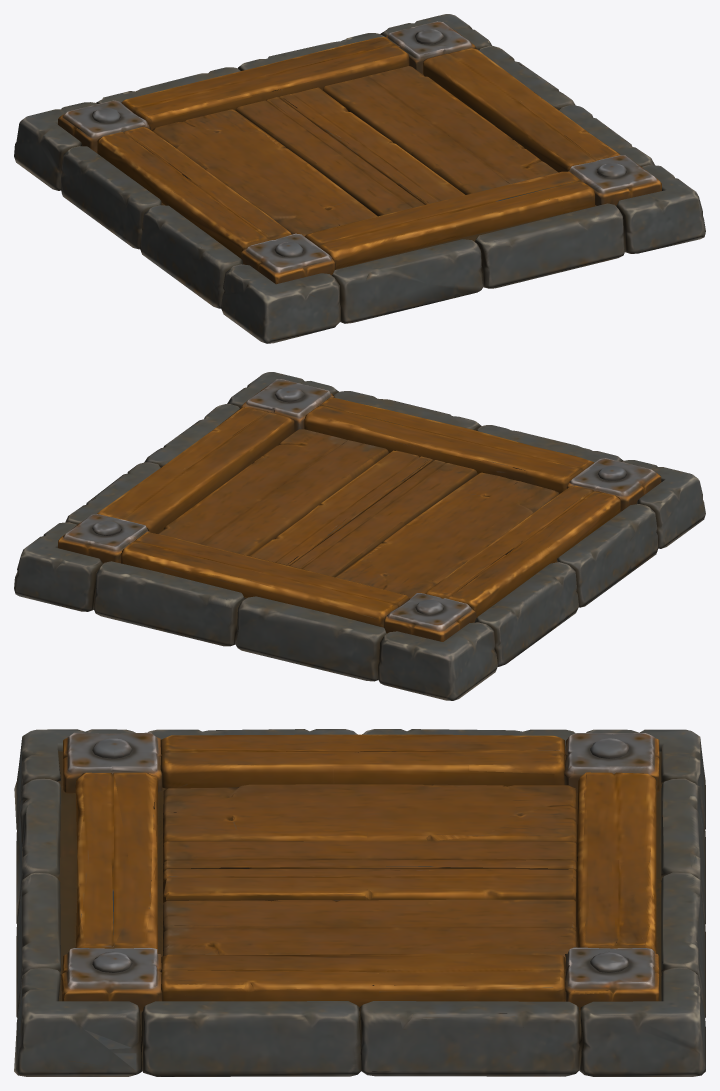
The model's file is pressure_plate_pressed.glb.
3 renders of one model, top to bottom at view 1: azimuth 30°, elevation 25°; view 2: azimuth 150°, elevation 25°; view 3: azimuth 270°, elevation 25°, orthographic. The views are drawn at different scales.
Visible parts, largest first — view 1: geometry_0; view 2: geometry_0; view 3: geometry_0.
Part boxes in pixels (<box>): geometry_0: <box>14,14,705,343</box>; geometry_0: <box>14,372,705,700</box>; geometry_0: <box>14,729,705,1076</box>.
Bounding box in the file's own units: 0.9526 × 0.1201 × 0.9482.
Materials: 1 (1 with a texture image).
